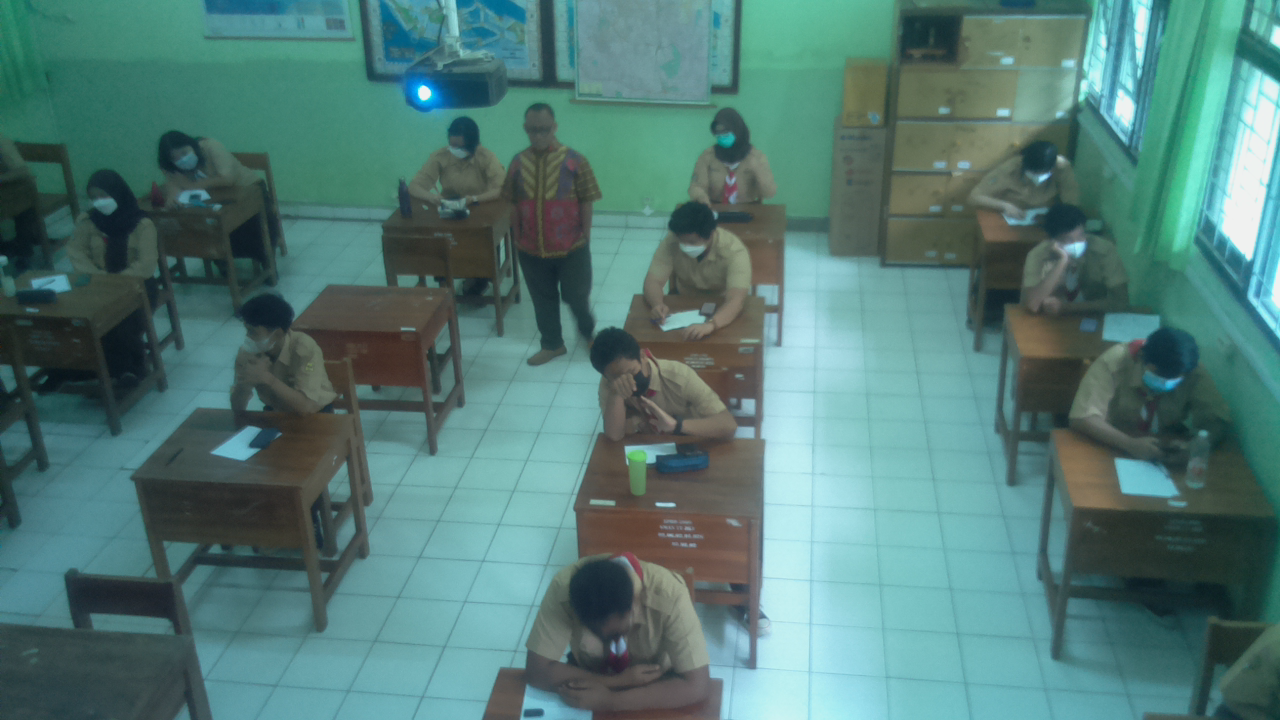Student: (539, 553, 697, 669), (587, 323, 722, 434), (1083, 329, 1212, 425), (507, 105, 591, 246), (1027, 207, 1126, 309), (235, 295, 324, 406), (71, 167, 149, 274), (661, 203, 751, 293), (691, 107, 770, 208), (987, 143, 1073, 210), (421, 115, 492, 196), (155, 127, 243, 188)
